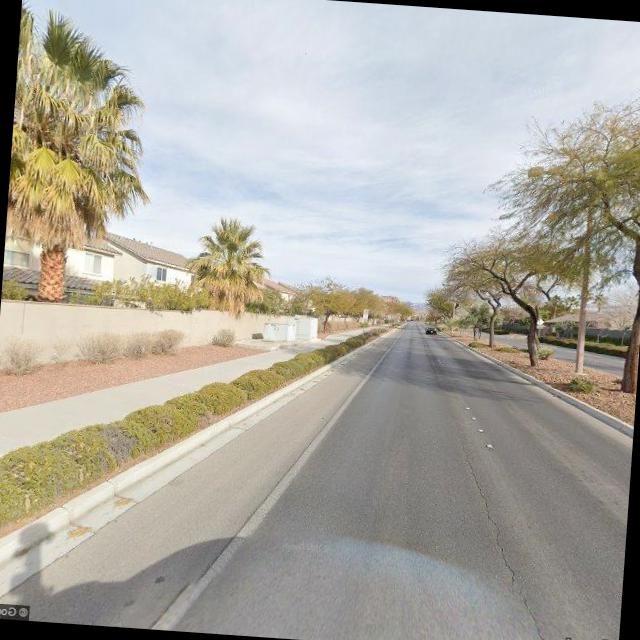pothole: (451, 451, 574, 640)
